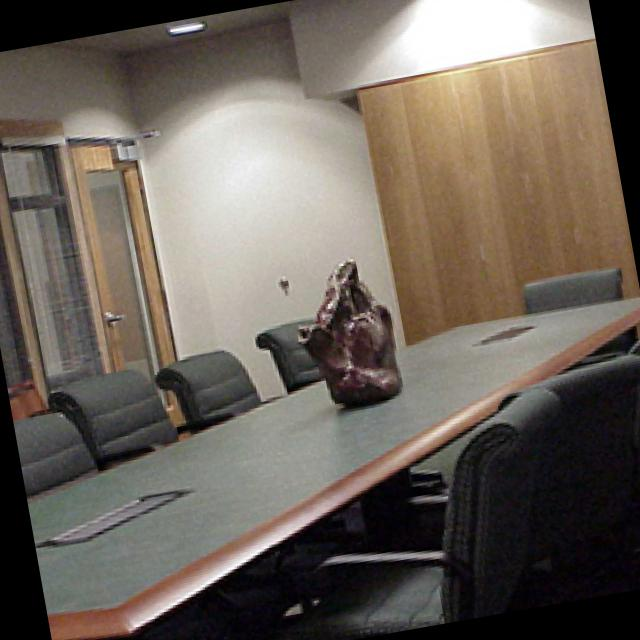2001: (0, 144, 97, 394), (0, 243, 27, 380)
air vent: (34, 488, 187, 541), (466, 321, 531, 342)
ceiling lamps: (163, 17, 205, 33)
chair: (47, 367, 163, 466), (164, 346, 269, 426), (519, 265, 618, 302)
chair -occluded-: (285, 388, 559, 636), (536, 348, 640, 534)
chair seat: (12, 411, 92, 500), (251, 314, 317, 390)
conference table: (26, 292, 639, 637)
door bars: (64, 134, 187, 435)
door mat: (102, 309, 121, 323)
statue: (290, 260, 400, 402)
